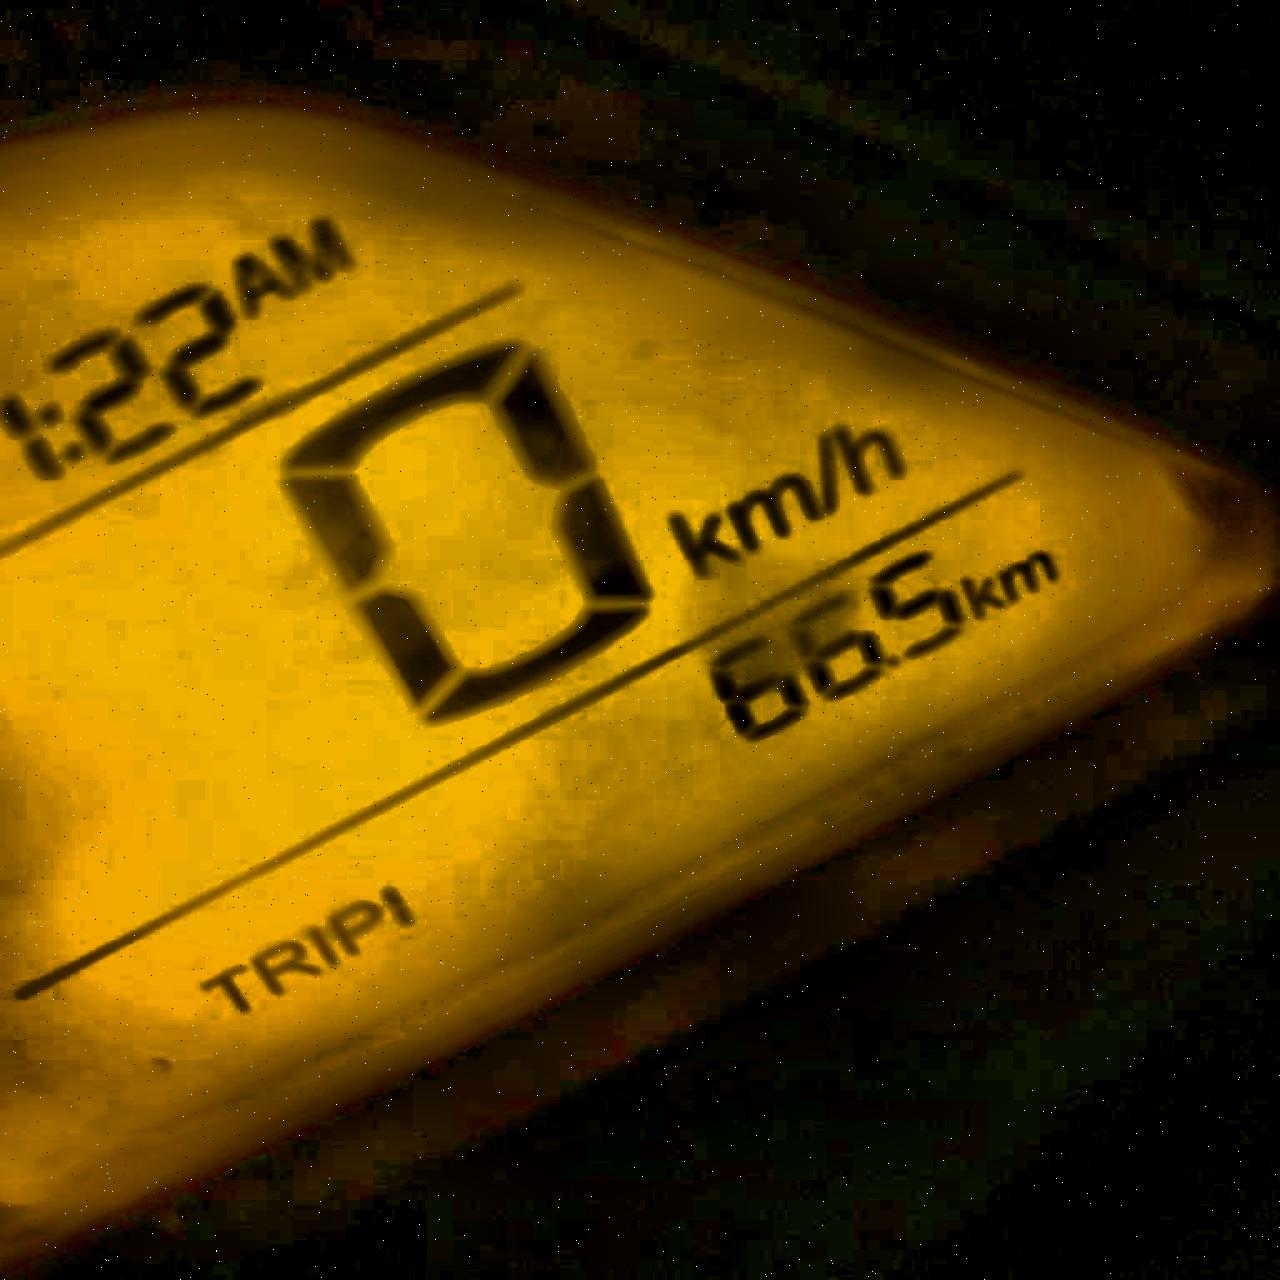-: (884, 647, 900, 673)
0: (281, 343, 651, 722)
1: (1, 389, 60, 486), (376, 878, 425, 933)
2: (48, 325, 182, 459), (134, 280, 259, 414)
5: (862, 549, 961, 656)
6: (702, 634, 803, 741), (788, 591, 885, 701)
X: (730, 470, 817, 543), (832, 418, 915, 493), (277, 212, 352, 287), (667, 508, 735, 572), (223, 248, 294, 309), (250, 940, 319, 996), (33, 400, 87, 462), (999, 546, 1060, 600), (190, 960, 250, 1014), (325, 900, 380, 955), (813, 433, 845, 513), (959, 565, 1003, 618), (304, 924, 336, 966)
odometer: (0, 82, 1278, 1218)
